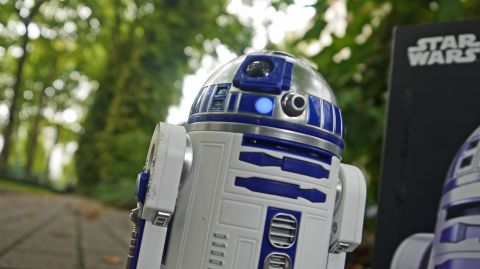r2d2: (126, 52, 367, 267)
